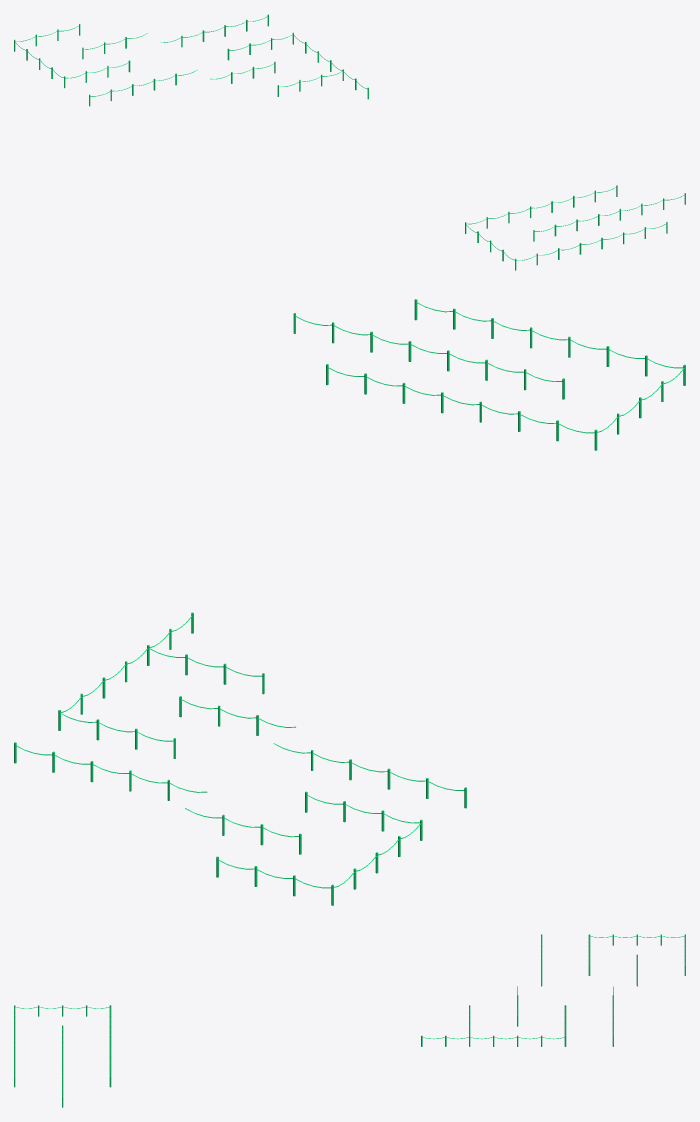
The model's file is Encounter_003_Rails.fbx.
3 renders of one model, top to bottom at view 1: azimuth 30°, elevation 25°; view 2: azimuth 150°, elevation 25°; view 3: azimuth 270°, elevation 25°, orthographic. The views are drawn at different scales.
Parts seen in each view (by area): view 1: Encounter_003_Rails; view 2: Encounter_003_Rails; view 3: Encounter_003_Rails.
Boxes of the visible parts, box(x1,y1,x2,y2) form: Encounter_003_Rails: box(14, 14, 685, 270); Encounter_003_Rails: box(14, 299, 685, 905); Encounter_003_Rails: box(14, 934, 685, 1107).
Bounding box in the file's own units: 3212 × 100 × 5612.
